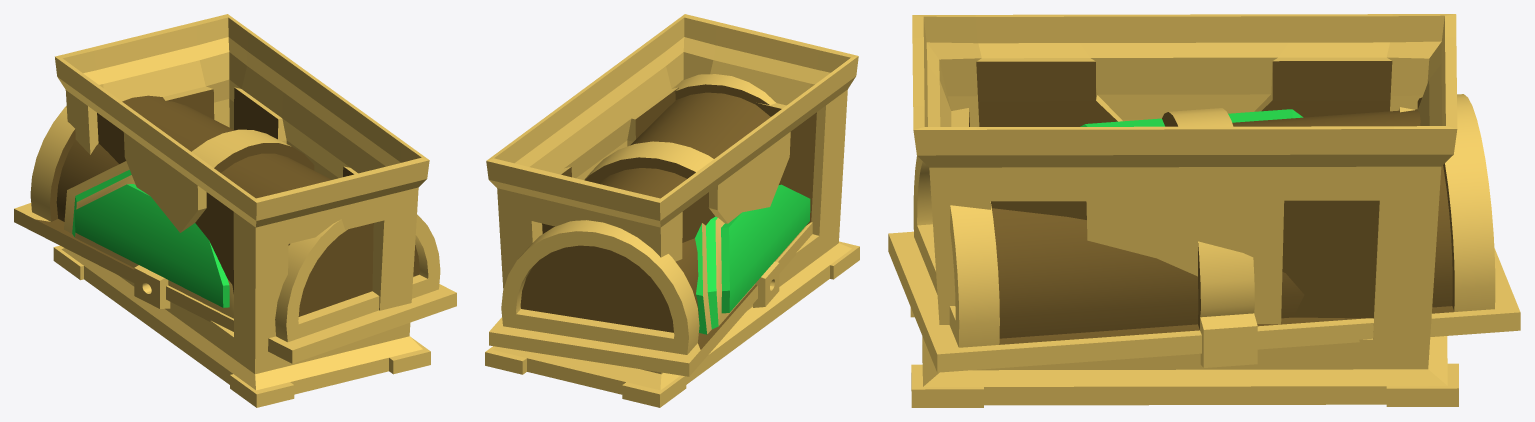
The model's file is errere.fbx.
3 renders of one model, left to right at view 1: azimuth 30°, elevation 25°; view 2: azimuth 150°, elevation 25°; view 3: azimuth 270°, elevation 25°, orthographic. The views are drawn at different scales.
Parts seen in each view (by area): view 1: Cube.006, Cube.011; view 2: Cube.006, Cube.011; view 3: Cube.006, Cube.011.
Boxes of the visible parts, x1,y1,x2,y2 form: Cube.006: (53,14,430,407); Cube.011: (14,95,456,363); Cube.006: (485,14,859,407); Cube.011: (489,74,812,376); Cube.006: (910,14,1458,407); Cube.011: (888,94,1520,372).
Size of the model in its own units: 209 by 166 by 343.
